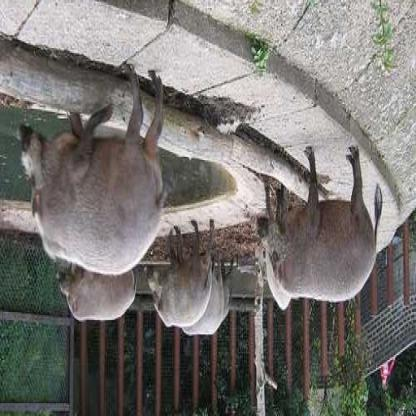boar: (0, 79, 177, 274), (243, 153, 395, 305), (126, 224, 238, 342), (48, 248, 151, 340)
